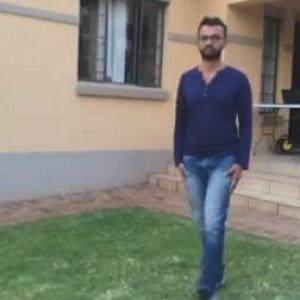follow: (171, 30, 249, 270)
